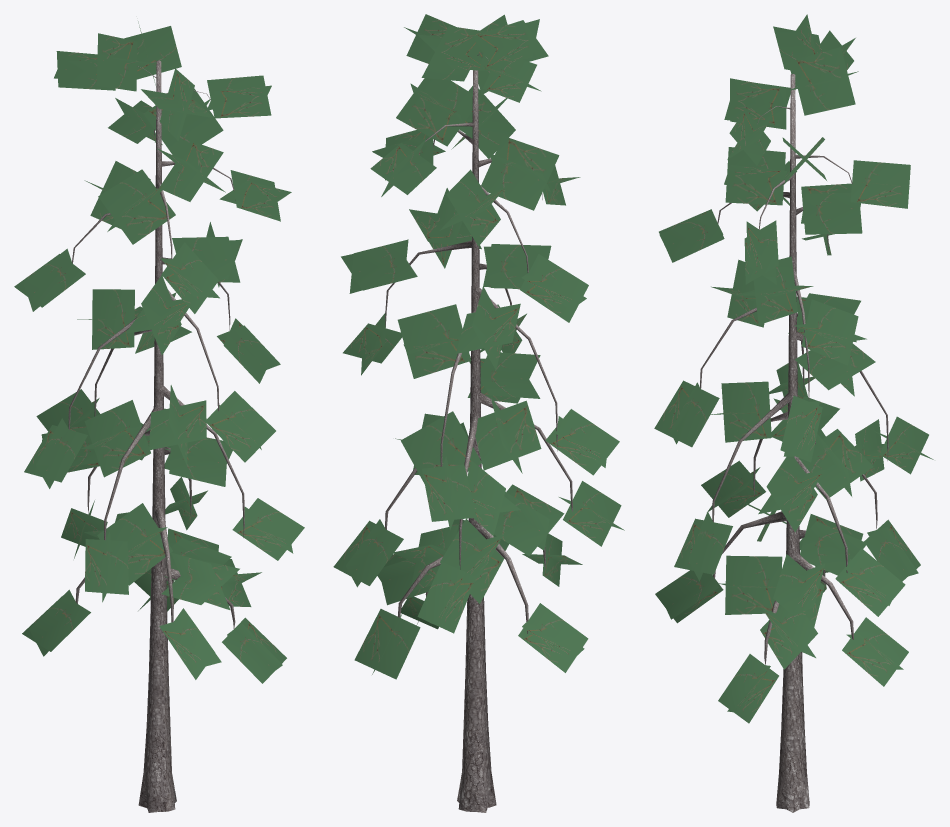
The model's file is dead_tree2.fbx.
3 views of the same model, side by side, from view 1: azimuth 30°, elevation 25°; view 2: azimuth 150°, elevation 25°; view 3: azimuth 270°, elevation 25° (orthographic). The views are drawn at different scales.
Parts seen in each view (by area): view 1: branch06_1, dead_tree2_LOD0; view 2: branch06_1, dead_tree2_LOD0; view 3: branch06_1, dead_tree2_LOD0.
Part boxes in pixels (x1=…): branch06_1: x1=14, y1=21, x2=304, y2=683; dead_tree2_LOD0: x1=68, y1=60, x2=244, y2=812; branch06_1: x1=333, y1=14, x2=624, y2=679; dead_tree2_LOD0: x1=385, y1=52, x2=572, y2=812; branch06_1: x1=654, y1=14, x2=933, y2=723; dead_tree2_LOD0: x1=700, y1=74, x2=888, y2=812.
Size of what is drawn, in the model's own units: 374 by 1101 by 367.
4 materials, 4 textured.
